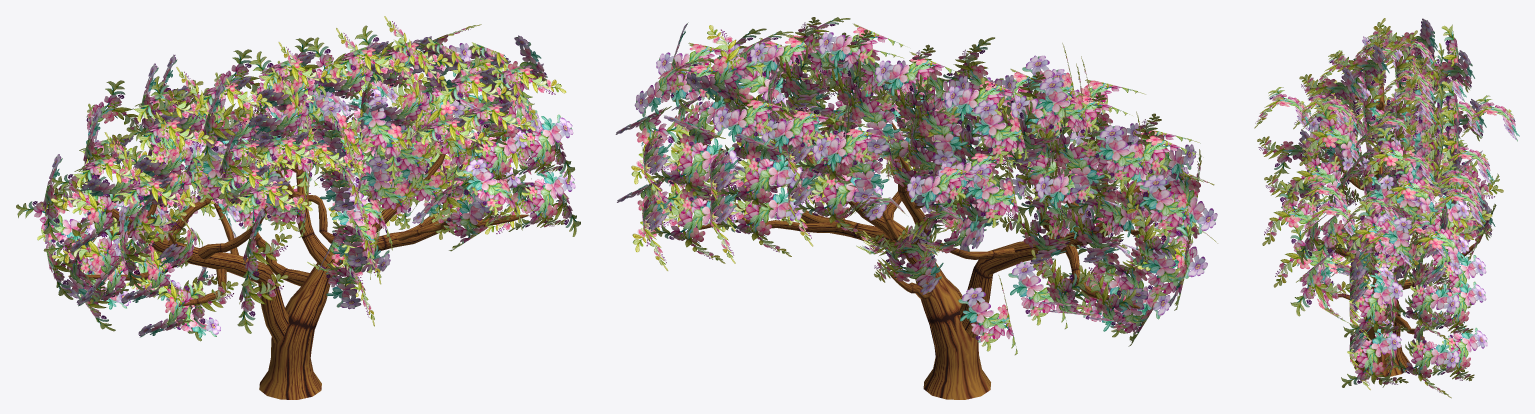
Rendered from Arbol2.fbx.
3 renders of one model, left to right at view 1: azimuth 30°, elevation 25°; view 2: azimuth 150°, elevation 25°; view 3: azimuth 270°, elevation 25°, orthographic. The views are drawn at different scales.
Parts seen in each view (by area): view 1: Cylinder001, Cylinder005, Plane109, Plane040, Plane046, Plane053, Plane131, Plane008, Plane010, Plane002, Plane110, Plane130 (+88 smaller); view 2: Cylinder001, Plane106, Cylinder005, Plane139, Plane067, Plane064, Plane137, Plane140, Plane070, Plane150, Plane145, Plane047 (+87 smaller); view 3: Plane125, Plane126, Plane129, Plane127, Plane128, Plane153, Plane136, Plane123, Plane134, Plane063, Plane065, Plane062 (+80 smaller).
Boxes of the visible parts, box(x1,y1,x2,y2) form: Cylinder001: box(259, 154, 445, 399); Cylinder005: box(95, 200, 288, 342); Plane109: box(357, 96, 424, 179); Plane040: box(361, 156, 420, 229); Plane046: box(508, 169, 575, 231); Plane053: box(507, 114, 573, 177); Plane131: box(247, 67, 320, 138); Plane008: box(51, 217, 123, 298); Plane010: box(51, 180, 122, 251); Plane002: box(136, 275, 205, 337); Plane110: box(463, 159, 522, 230); Plane130: box(368, 57, 440, 128); Cylinder001: box(804, 153, 990, 399); Plane106: box(685, 25, 768, 100); Cylinder005: box(960, 183, 1171, 337); Plane139: box(907, 75, 967, 165); Plane067: box(717, 154, 804, 224); Plane064: box(650, 138, 738, 201); Plane137: box(840, 63, 900, 154); Plane140: box(1044, 109, 1104, 199); Plane070: box(717, 187, 804, 256); Plane150: box(958, 275, 1017, 354); Plane145: box(970, 88, 1029, 167); Plane047: box(650, 197, 737, 263); Plane125: box(1343, 279, 1410, 337); Plane126: box(1341, 331, 1408, 387); Plane129: box(1299, 101, 1358, 171); Plane127: box(1392, 339, 1459, 398); Plane128: box(1392, 284, 1459, 342); Plane153: box(1406, 211, 1464, 274); Plane136: box(1262, 181, 1321, 252); Plane123: box(1379, 160, 1437, 224); Plane134: box(1285, 140, 1341, 208); Plane063: box(1430, 326, 1487, 381); Plane065: box(1424, 280, 1486, 334); Plane062: box(1383, 217, 1418, 286).
Bounding box in the file's own units: 159 × 96.26 × 77.97.
2 materials, 2 textured.
